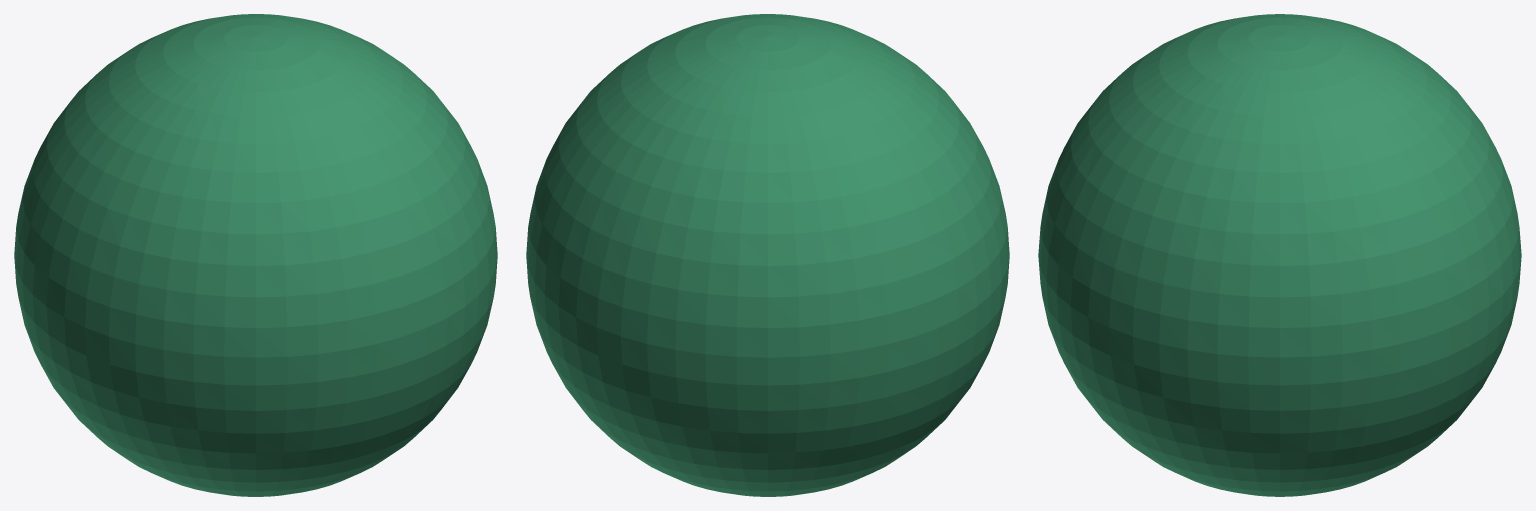
Rendered from Green_Sphere.glb.
3 renders of one model, left to right at view 1: azimuth 30°, elevation 25°; view 2: azimuth 150°, elevation 25°; view 3: azimuth 270°, elevation 25°, orthographic.
Visible parts, largest first — view 1: Mesh_Mesh_head_geo.001_lambert2SG.001; view 2: Mesh_Mesh_head_geo.001_lambert2SG.001; view 3: Mesh_Mesh_head_geo.001_lambert2SG.001.
Part boxes in pixels (bbox=[...]): Mesh_Mesh_head_geo.001_lambert2SG.001: bbox=[14, 14, 497, 496]; Mesh_Mesh_head_geo.001_lambert2SG.001: bbox=[526, 14, 1009, 496]; Mesh_Mesh_head_geo.001_lambert2SG.001: bbox=[1038, 14, 1521, 496].
Bounding box in the file's own units: 2 × 2 × 2.
